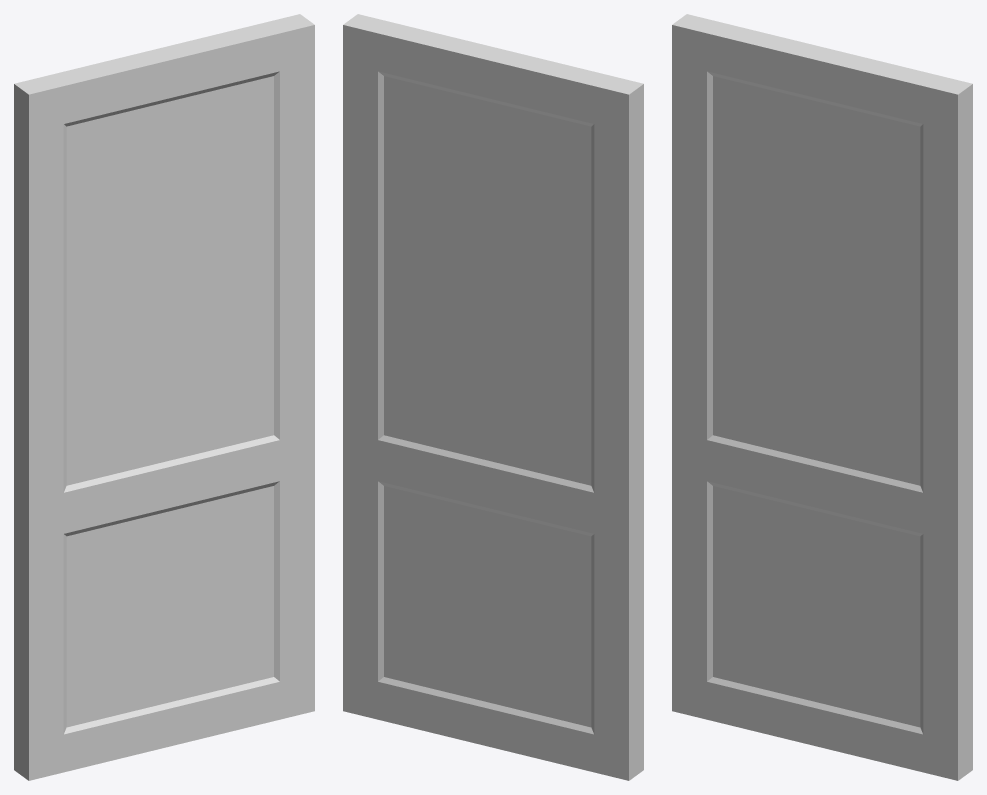
File: Door3_C1.fbx
The picture shows the model from 3 angles, left to right: view 1: azimuth 30°, elevation 25°; view 2: azimuth 150°, elevation 25°; view 3: azimuth 330°, elevation 25°; orthographic projection.
Visible parts, largest first — view 1: Door3_C1; view 2: Door3_C1; view 3: Door3_C1.
Boxes of the visible parts, left/top/right/bottom form: Door3_C1: left=14, top=14, right=314, bottom=780; Door3_C1: left=343, top=14, right=643, bottom=780; Door3_C1: left=672, top=14, right=972, bottom=780.
Bounding box in the file's own units: 89 × 204 × 8.
